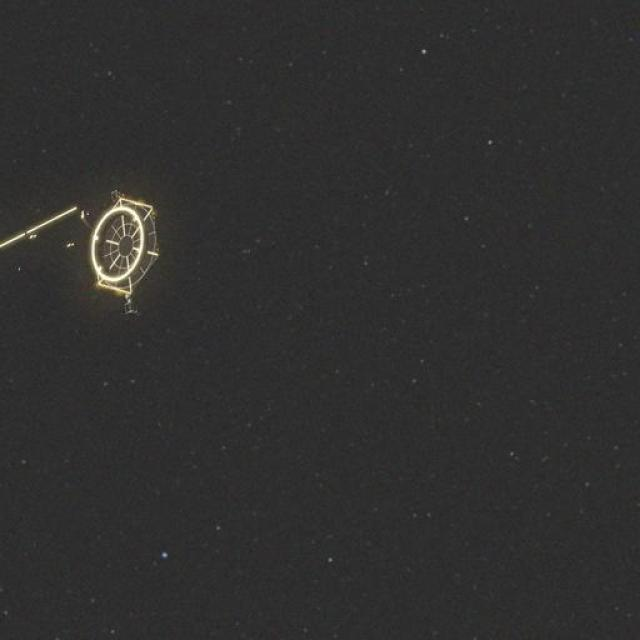earth_observation_sat_1: (3, 164, 210, 316)
